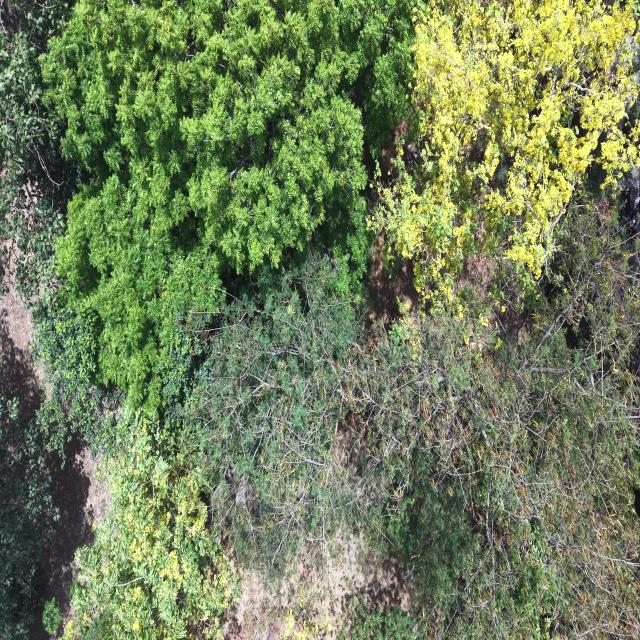DRY_AREA: (0, 87, 74, 418), (223, 531, 411, 639), (224, 531, 411, 639), (223, 533, 411, 639), (41, 434, 110, 619), (42, 434, 110, 621), (42, 433, 110, 620), (42, 434, 110, 620), (42, 434, 110, 618), (317, 534, 410, 639), (42, 435, 93, 619), (41, 437, 92, 617), (0, 286, 42, 417), (368, 231, 418, 328), (369, 231, 418, 328)
VEGETATION_TREE: (0, 0, 639, 639), (181, 194, 637, 637), (2, 2, 413, 449), (376, 2, 637, 636), (42, 1, 411, 412), (361, 192, 638, 639), (432, 194, 638, 637), (172, 254, 440, 591), (372, 0, 638, 319), (176, 257, 363, 579), (0, 1, 118, 450), (66, 414, 230, 639), (0, 1, 75, 303), (32, 289, 122, 454), (0, 396, 57, 639), (338, 598, 427, 639), (43, 597, 61, 633)
